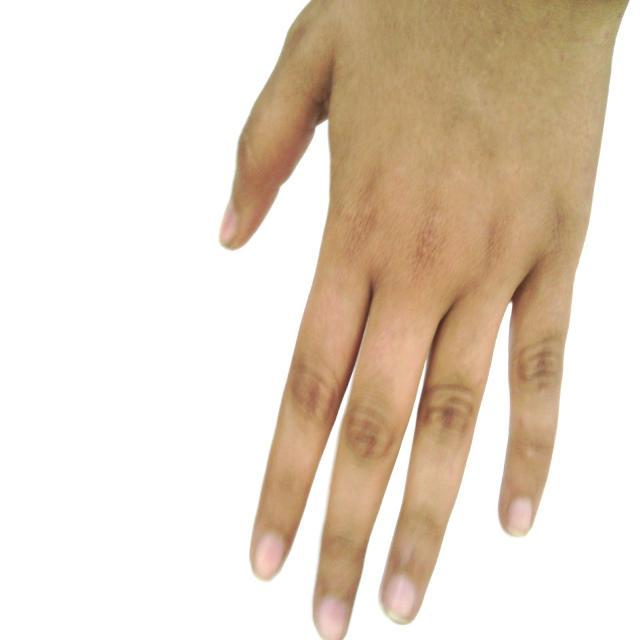Fingernail: (385, 577, 416, 623), (256, 534, 284, 579), (317, 600, 347, 639), (507, 498, 532, 536), (220, 206, 236, 244)
